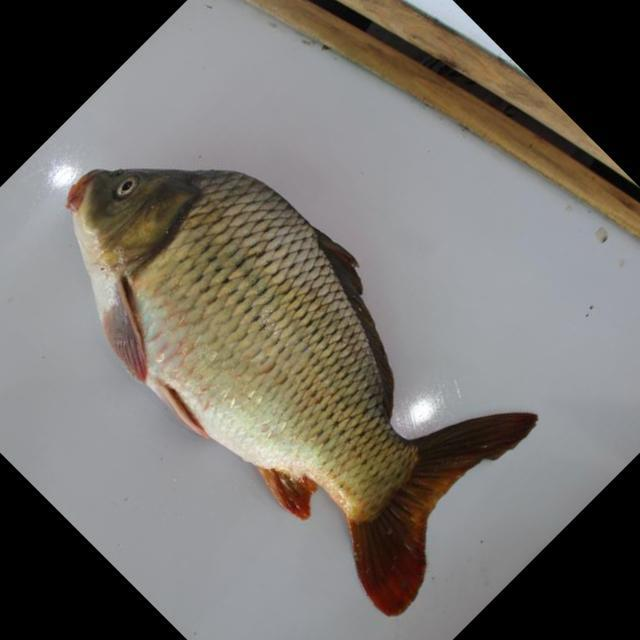CommonCarp: (68, 163, 547, 624)
